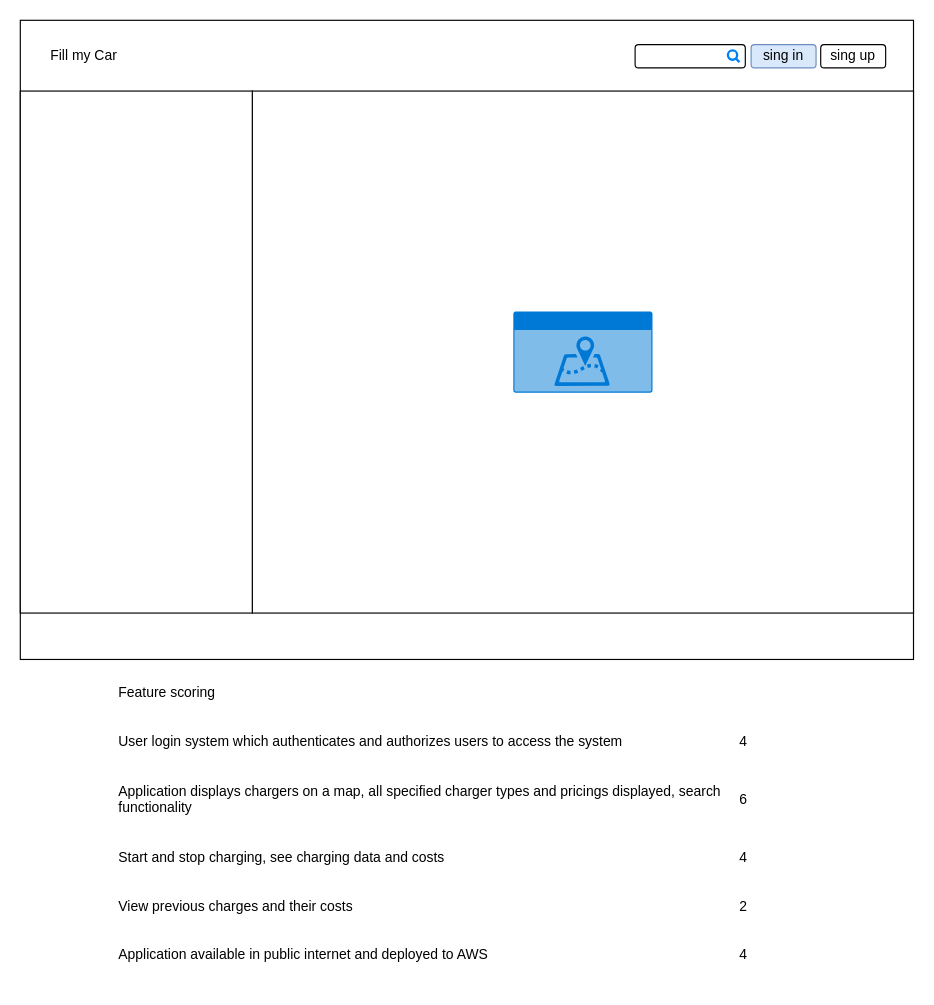
Image size: 934x1005. Some labels were removed from this diagram. Each missing label, with the centre of its shape:
Map: (582,351)
search: (689,56)
